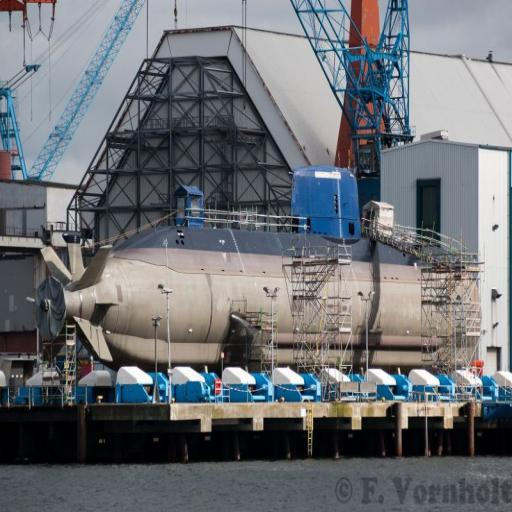submarine: (33, 223, 496, 355)
